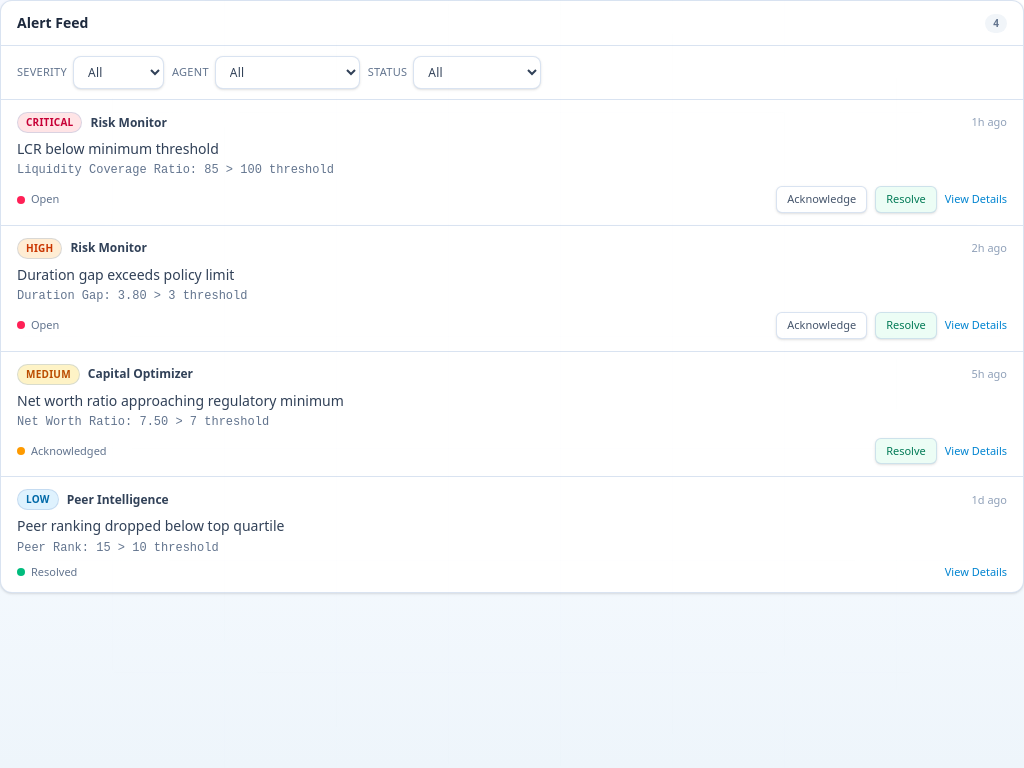
AlertFeed › filters by agent
The image size is (1024, 768).
# Filter to Capital Optimizer (only the MEDIUM alert with category 'capital')
Select "Capital Optimizer" in the dropdown labelled "Agent" at (287, 72), box [215, 56, 360, 89]
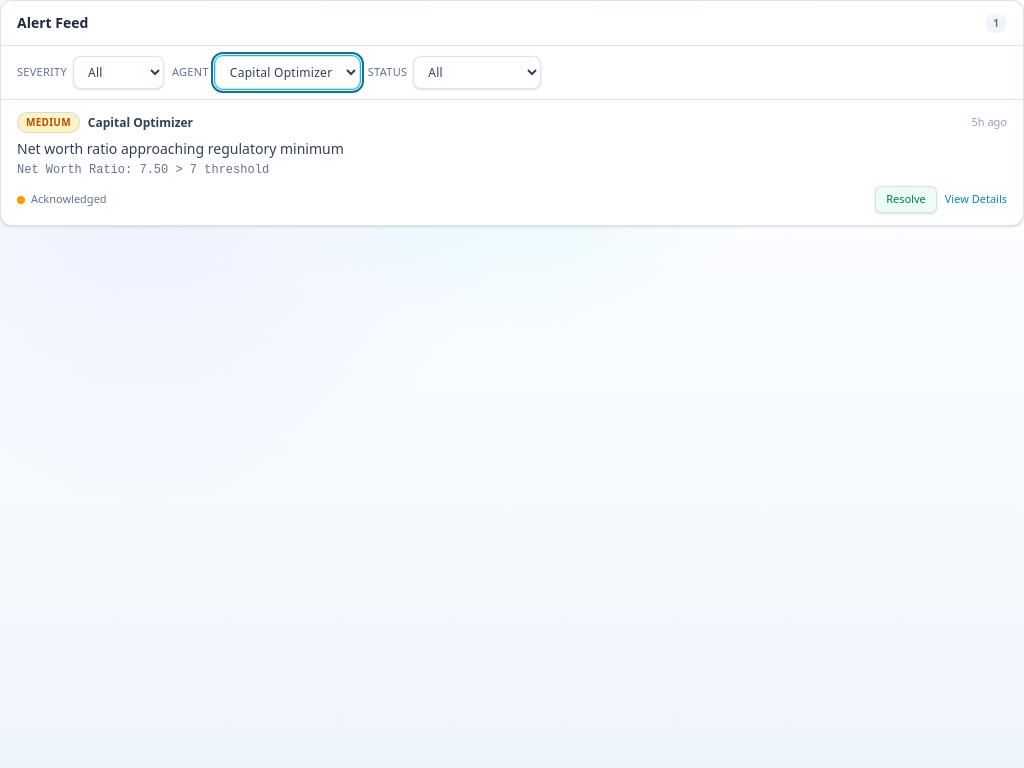
Check: the number of elements with test id "alert-row" is 1, box [1, 100, 1023, 225]
